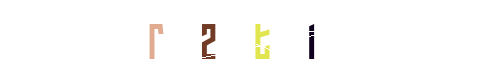1: (272, 0, 352, 80)
2: (178, 0, 258, 80)
R: (177, 0, 257, 80)
T: (210, 0, 290, 80)
